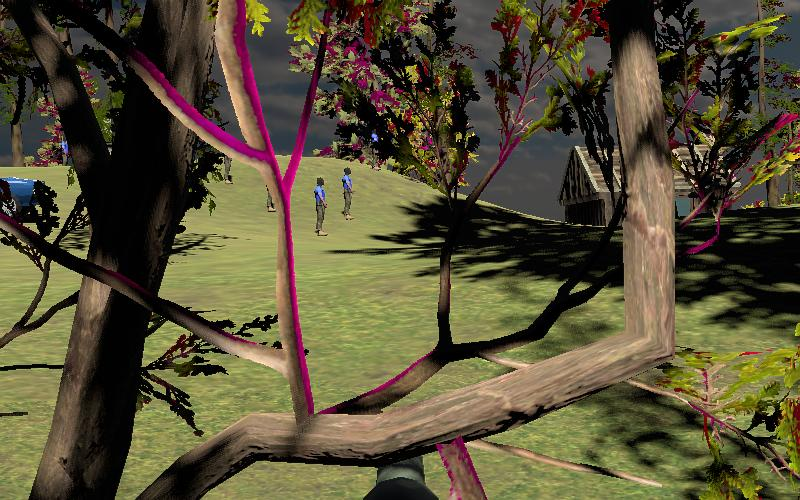Human: (313, 176, 329, 238), (340, 166, 355, 220)
car: (0, 161, 59, 227)
